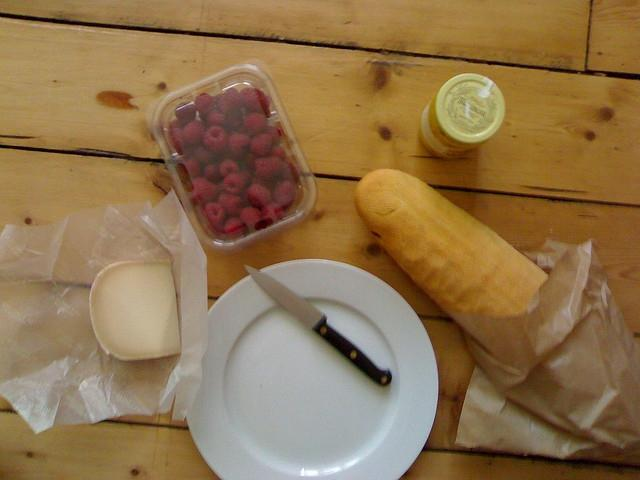raspberry: (212, 87, 244, 116), (222, 169, 255, 196), (254, 155, 284, 184), (202, 126, 228, 154), (272, 181, 297, 210), (204, 202, 228, 230), (216, 193, 242, 217), (278, 158, 300, 186), (192, 178, 216, 203), (184, 120, 208, 145), (228, 133, 251, 159), (248, 133, 272, 157), (224, 216, 248, 240), (192, 145, 218, 166), (248, 184, 270, 208), (240, 206, 262, 230), (202, 158, 222, 184), (244, 112, 267, 134), (194, 92, 215, 116), (174, 102, 196, 124), (182, 156, 203, 177), (262, 202, 284, 222), (238, 88, 258, 110), (206, 107, 226, 128), (224, 110, 244, 130), (168, 128, 187, 149), (260, 125, 281, 144), (219, 160, 240, 178), (265, 146, 286, 161), (250, 177, 275, 189), (176, 147, 192, 156)
